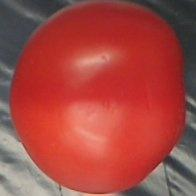unripe: (5, 0, 188, 196)
